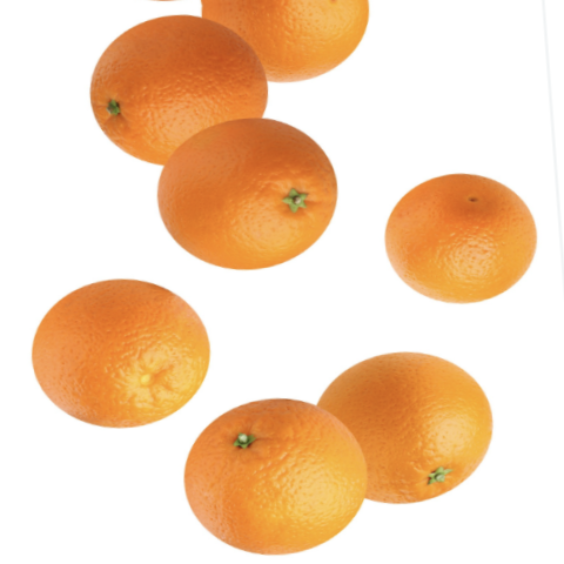orange: (11, 249, 225, 438), (57, 8, 290, 181), (167, 385, 384, 564), (298, 342, 511, 517), (147, 105, 356, 279), (380, 162, 546, 320), (198, 0, 387, 105)
